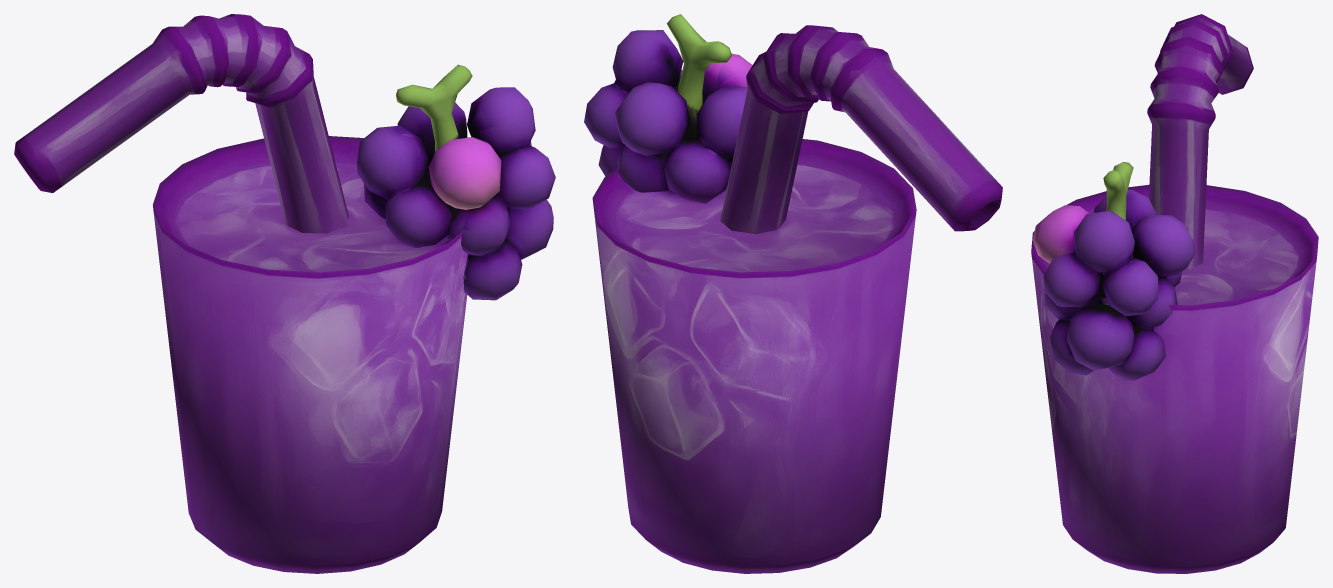
File: Web_Smoothie_Grape.fbx
3 renders of one model, left to right at view 1: azimuth 30°, elevation 25°; view 2: azimuth 150°, elevation 25°; view 3: azimuth 270°, elevation 25°, orthographic. The views are drawn at different scales.
Visible parts, largest first — view 1: 葡萄.001; view 2: 葡萄.001; view 3: 葡萄.001.
Boxes of the visible parts, <box> form: 葡萄.001: <box>14,14,555,573</box>; 葡萄.001: <box>584,14,1002,573</box>; 葡萄.001: <box>1031,14,1318,573</box>.
Bounding box in the file's own units: 100 × 55.49 × 91.48.
1 material, 1 textured.
